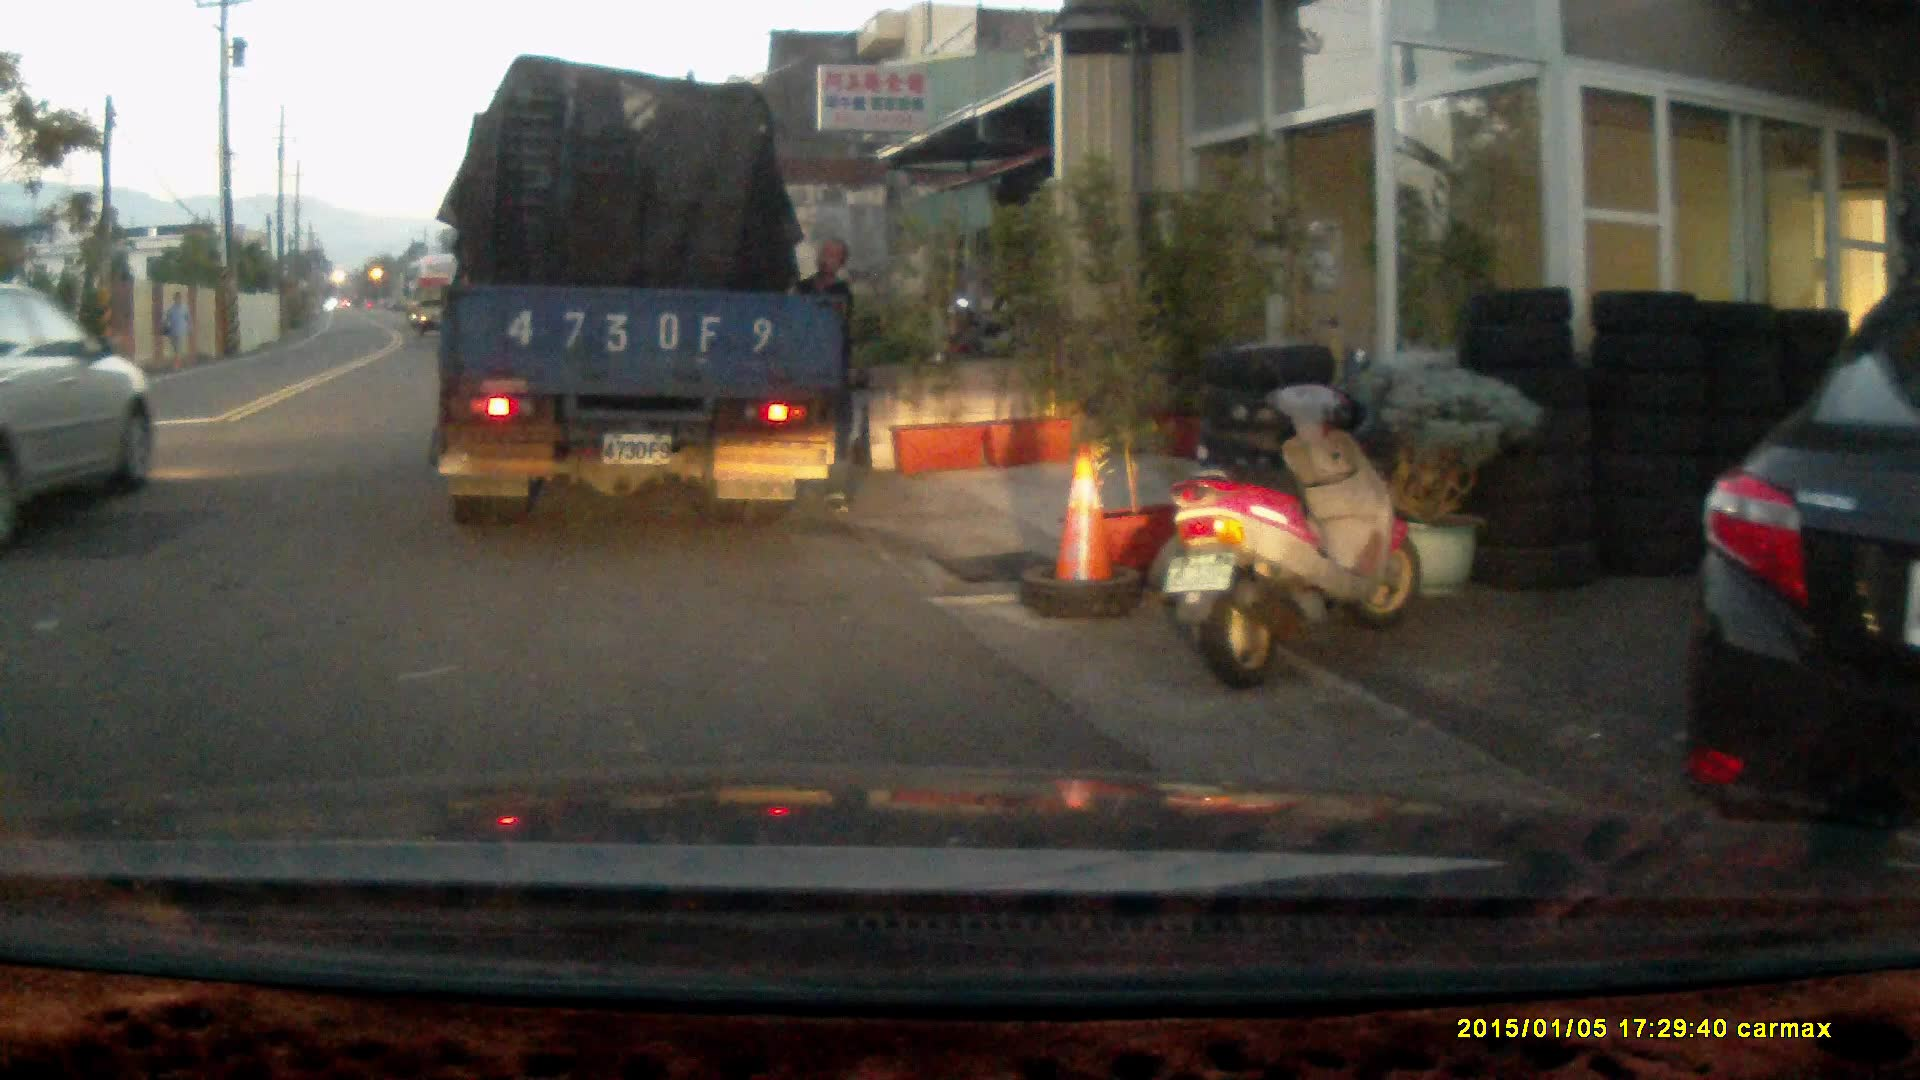pedestrian: (160, 288, 195, 364)
vehicle: (433, 64, 852, 517), (1674, 269, 1920, 861), (1, 285, 153, 520), (405, 252, 466, 326), (416, 280, 463, 338)
